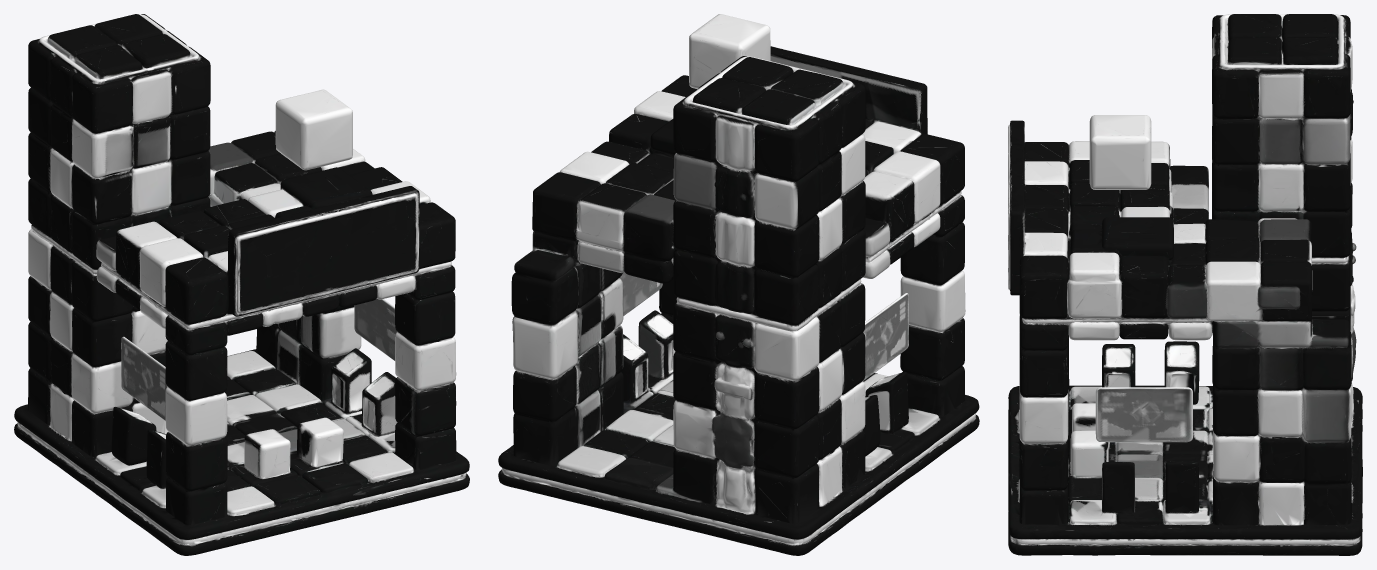
File: bld-okx-market.glb
3 views of the same model, side by side, from view 1: azimuth 30°, elevation 25°; view 2: azimuth 150°, elevation 25°; view 3: azimuth 270°, elevation 25° (orthographic). The views are drawn at different scales.
Size of the model in its own units: 1.45 by 1.9 by 1.49.
Materials: 1 (1 with a texture image).
